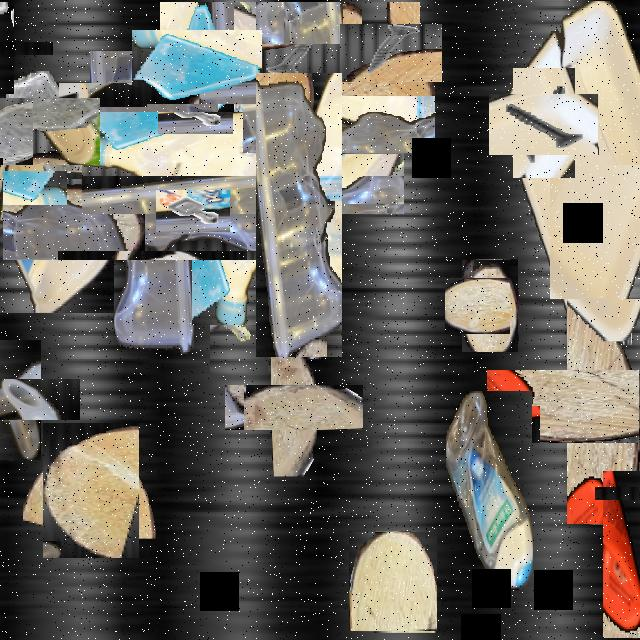glass: (146, 16, 248, 119), (0, 84, 87, 178)
metal: (501, 81, 587, 168), (351, 13, 431, 94), (210, 270, 268, 374), (558, 270, 622, 334), (164, 182, 222, 241), (0, 21, 33, 74), (610, 471, 640, 516)
plastic: (137, 57, 349, 270), (510, 2, 640, 340), (54, 120, 245, 310), (256, 73, 342, 357), (0, 124, 114, 313), (446, 391, 532, 590), (603, 471, 640, 638), (0, 359, 60, 440)
wood: (264, 23, 414, 174), (526, 330, 640, 483), (74, 68, 202, 196), (33, 432, 149, 548), (539, 176, 640, 289), (349, 532, 437, 631), (248, 361, 340, 453), (453, 269, 527, 343)
